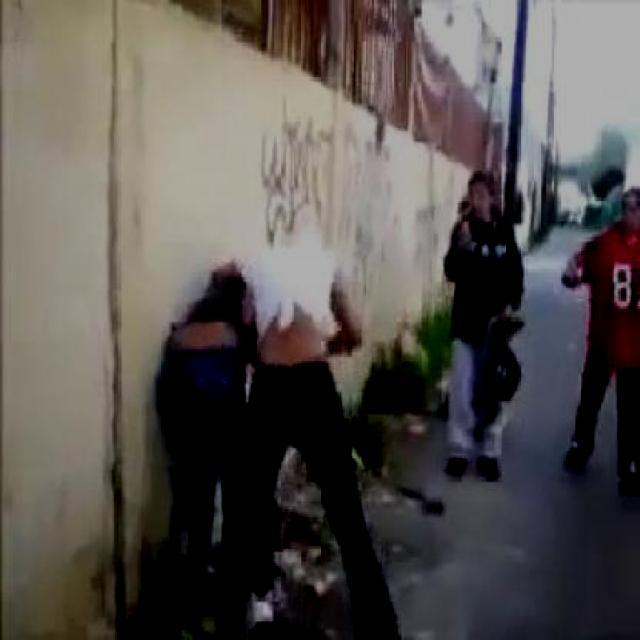fight: (150, 236, 404, 638)
